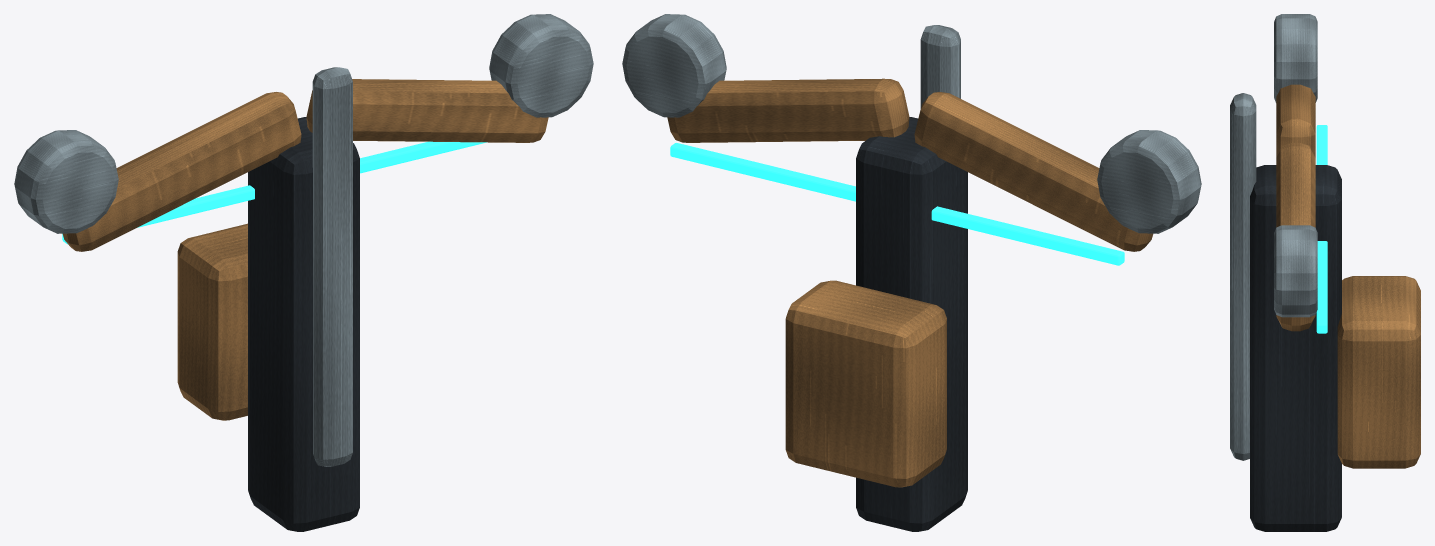
Rendered from crossbow.glb.
3 renders of one model, left to right at view 1: azimuth 30°, elevation 25°; view 2: azimuth 150°, elevation 25°; view 3: azimuth 270°, elevation 25°, orthographic. The views are drawn at different scales.
Parts seen in each view (by area): view 1: crossbow; view 2: crossbow; view 3: crossbow.
Part boxes in pixels (x1,y1,x2,y2): crossbow: (14, 14, 593, 531); crossbow: (622, 14, 1201, 531); crossbow: (1230, 14, 1420, 531).
Size of the model in its own units: 1.35 by 1.07 by 0.435.
Materials: 4 (3 with a texture image).
